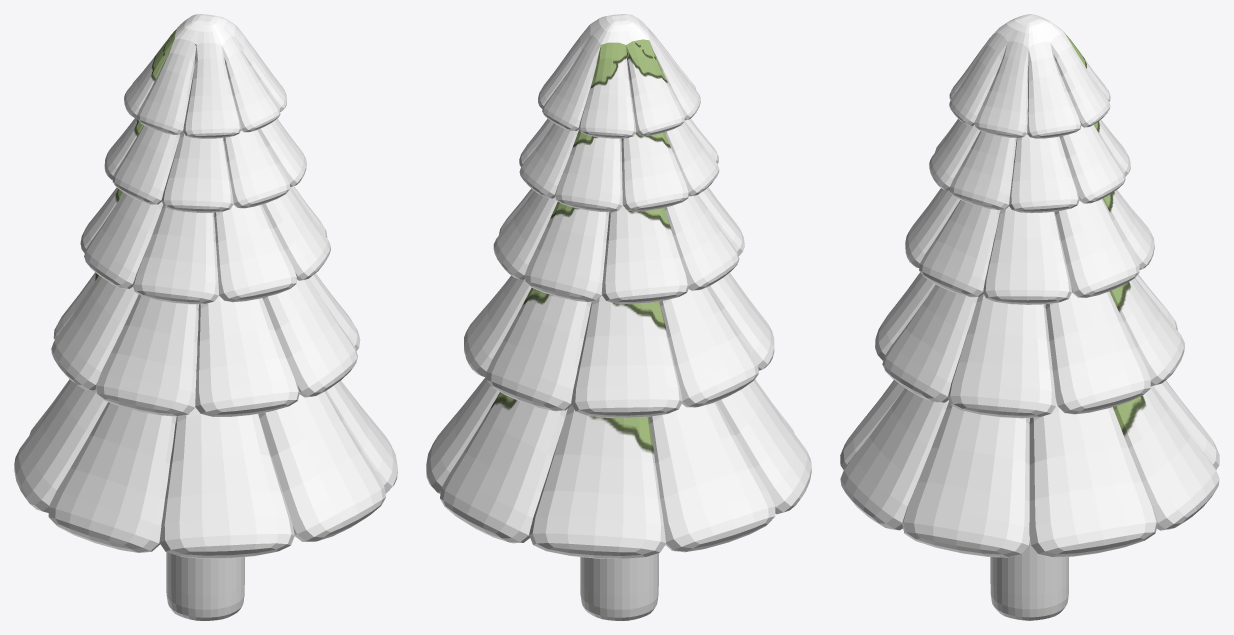
The model's file is tree.fbx.
3 views of the same model, side by side, from view 1: azimuth 30°, elevation 25°; view 2: azimuth 150°, elevation 25°; view 3: azimuth 270°, elevation 25° (orthographic).
Visible parts, largest first — view 1: Cube, Цилиндр; view 2: Cube, Цилиндр; view 3: Cube, Цилиндр.
Part boxes in pixels (left/top/right/bottom): Cube: left=14, top=14, right=397, bottom=558; Цилиндр: left=166, top=552, right=244, bottom=620; Cube: left=426, top=14, right=811, bottom=558; Цилиндр: left=580, top=553, right=658, bottom=620; Cube: left=840, top=14, right=1219, bottom=557; Цилиндр: left=990, top=539, right=1068, bottom=620.
Bounding box in the file's own units: 475 × 814 × 474.
